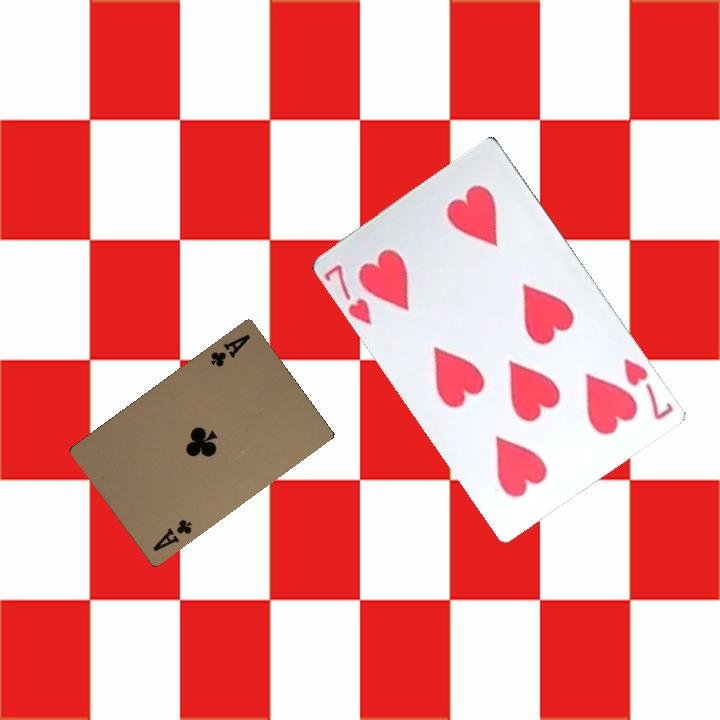7h: (619, 354, 676, 423), (321, 259, 376, 328)
Ac: (206, 330, 253, 370), (149, 515, 195, 554)
